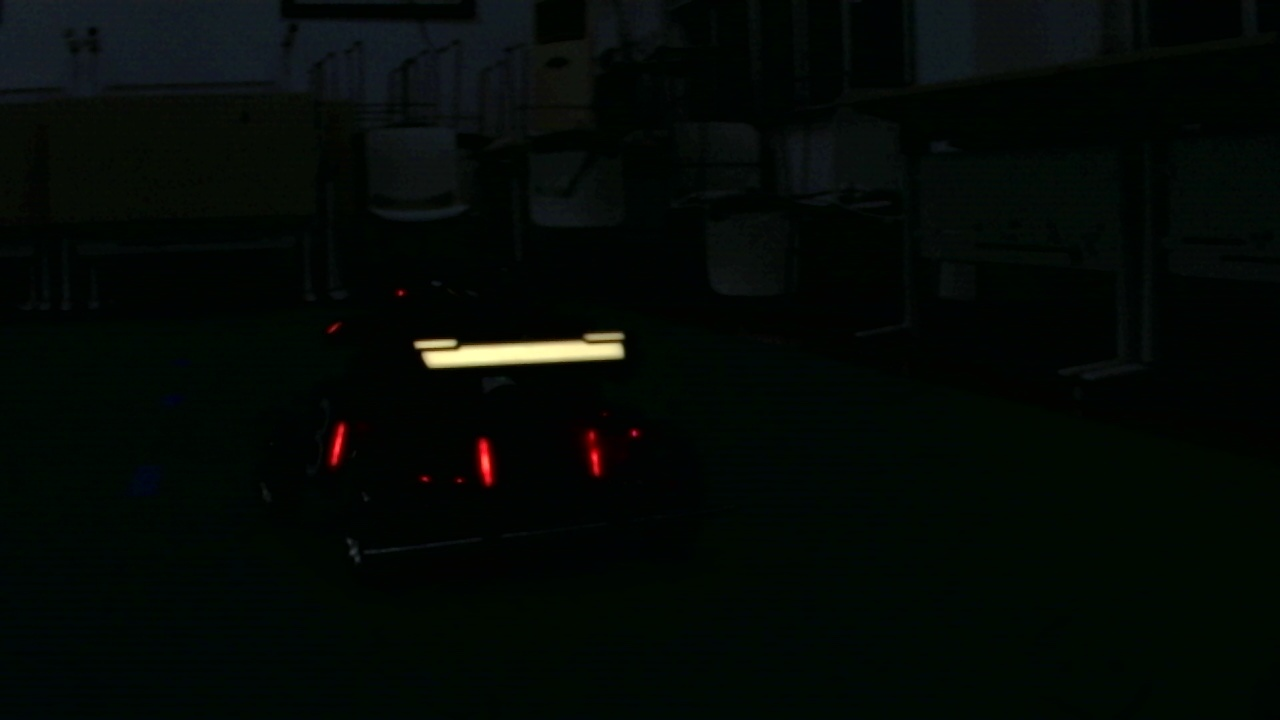lamp: (471, 427, 500, 485), (325, 416, 344, 469), (586, 426, 603, 482)
notpair1: (325, 416, 500, 487)
pair1: (474, 428, 601, 492)
